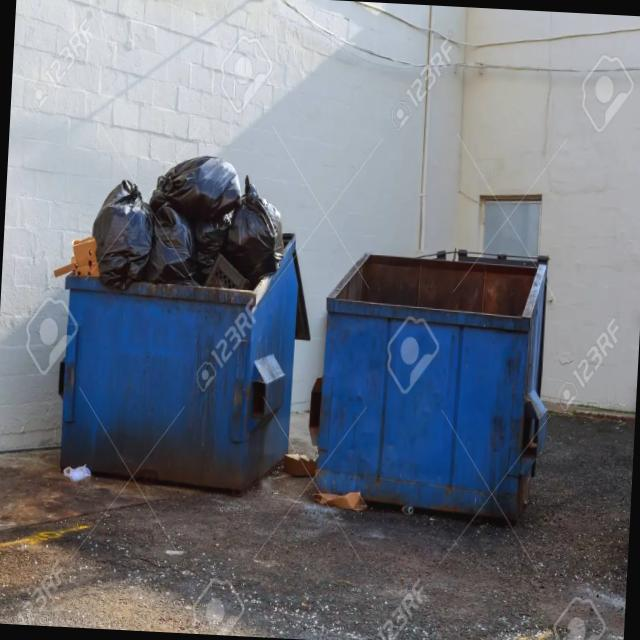garbage: (26, 134, 316, 500)
